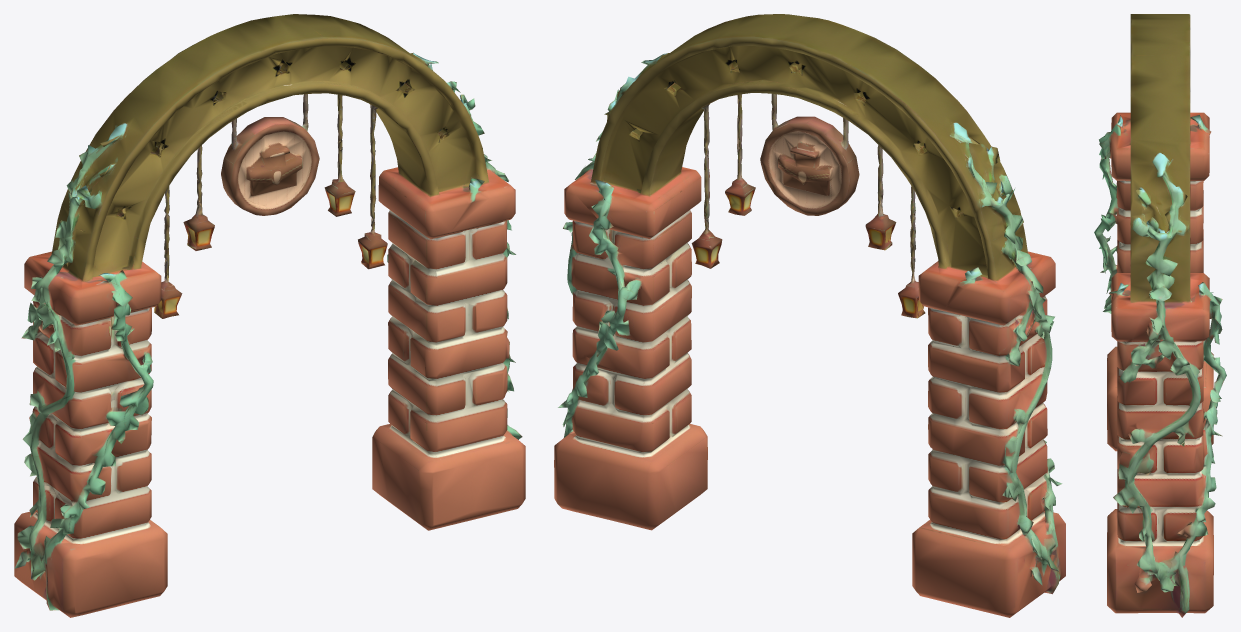
The model's file is career_street_arch.glb.
The picture shows the model from 3 angles, left to right: view 1: azimuth 30°, elevation 25°; view 2: azimuth 150°, elevation 25°; view 3: azimuth 270°, elevation 25°; orthographic projection. The views are drawn at different scales.
Parts seen in each view (by area): view 1: Mesh_0; view 2: Mesh_0; view 3: Mesh_0.
Part boxes in pixels (x1,y1,x2,y2): Mesh_0: (14,14,525,617); Mesh_0: (554,14,1065,617); Mesh_0: (1094,14,1226,617).
Bounding box in the file's own units: 1.88 × 1.91 × 0.4813.
Materials: 1 (1 with a texture image).
